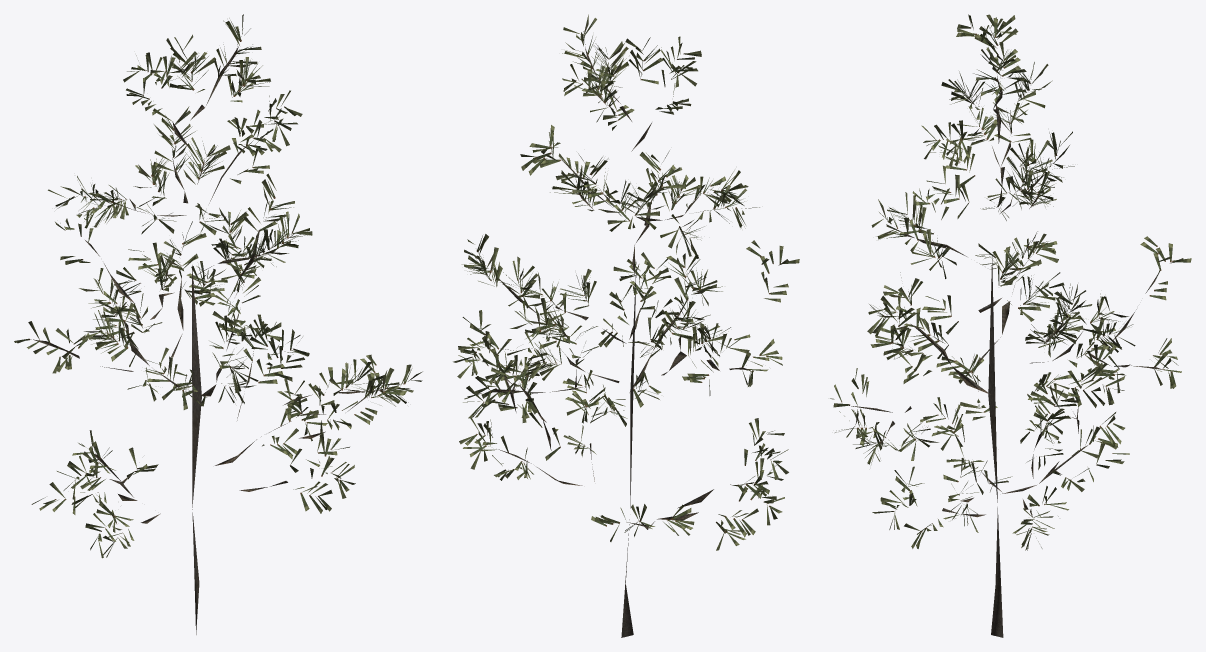
Rendered from pine-full-far.glb.
3 views of the same model, side by side, from view 1: azimuth 30°, elevation 25°; view 2: azimuth 150°, elevation 25°; view 3: azimuth 270°, elevation 25° (orthographic).
Parts seen in each view (by area): view 1: pine_sapling_small_a; view 2: pine_sapling_small_a; view 3: pine_sapling_small_a.
Boxes of the visible parts, box(x1,y1,x2,y2) form: pine_sapling_small_a: box(14, 14, 422, 634); pine_sapling_small_a: box(453, 14, 799, 637); pine_sapling_small_a: box(830, 14, 1191, 637).
Bounding box in the file's own units: 0.7634 × 1.29 × 0.6995.
Materials: 2 (2 with a texture image).
